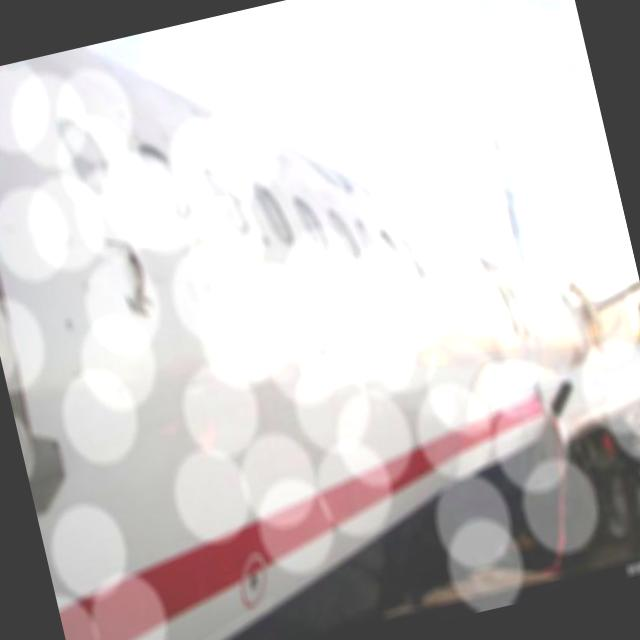crack: (101, 228, 162, 325)
